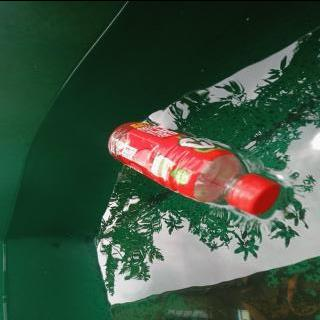bottle: (106, 120, 282, 216)
